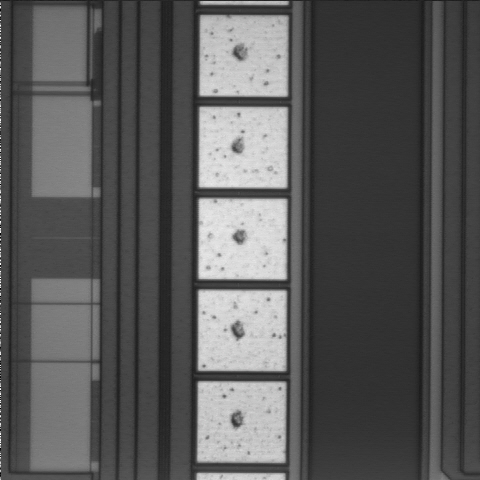pad: (199, 107, 287, 188), (198, 290, 286, 371), (199, 199, 287, 279), (200, 16, 287, 96), (198, 382, 285, 462)
